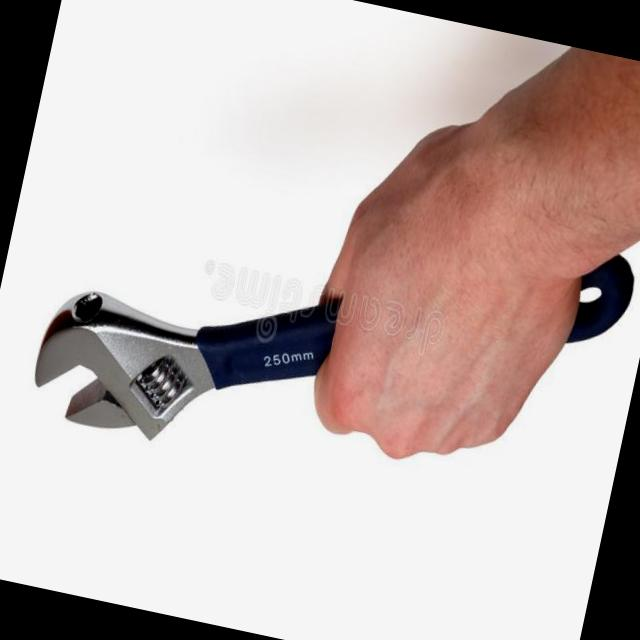wrench: (35, 292, 339, 439), (572, 259, 633, 340)
